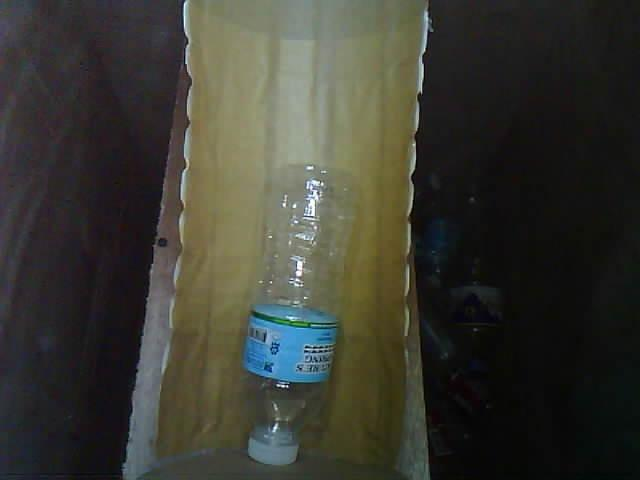small_bottle: (230, 149, 368, 480)
